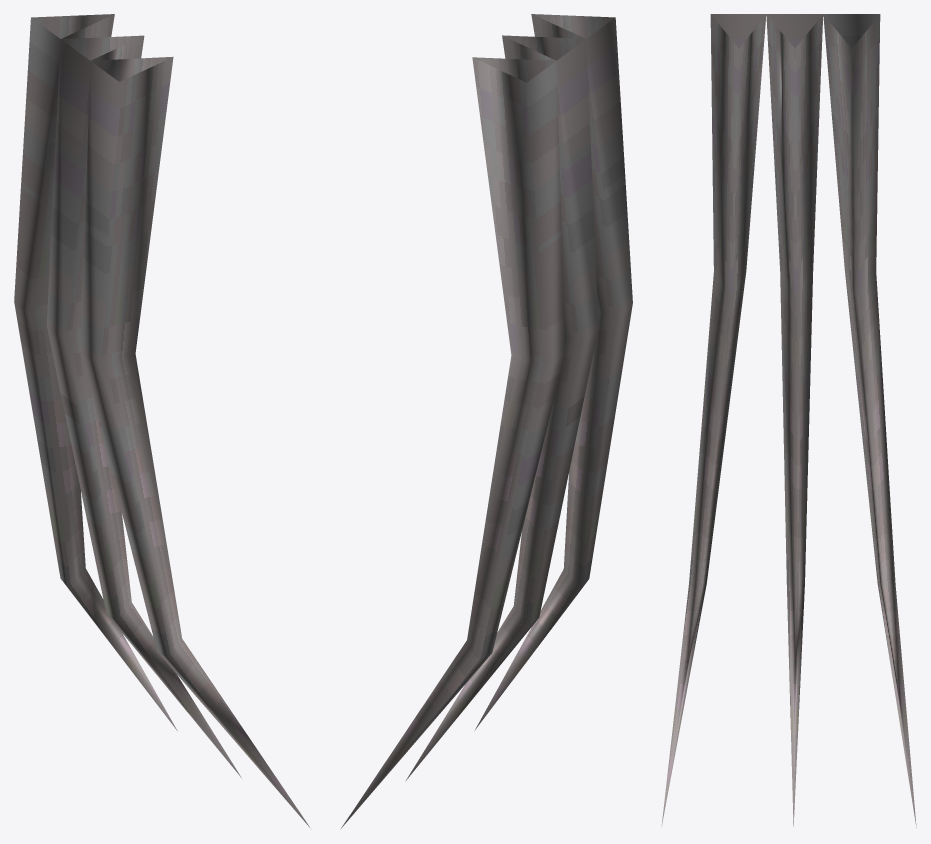
Rendered from Claw.fbx.
3 views of the same model, side by side, from view 1: azimuth 30°, elevation 25°; view 2: azimuth 150°, elevation 25°; view 3: azimuth 270°, elevation 25° (orthographic). The views are drawn at different scales.
Parts seen in each view (by area): view 1: U3DMesh; view 2: U3DMesh; view 3: U3DMesh.
Boxes of the visible parts, x1,y1,x2,y2 form: U3DMesh: [14, 14, 311, 829]; U3DMesh: [341, 14, 632, 828]; U3DMesh: [661, 14, 916, 827].
Size of the model in its own units: 0.3643 by 1.44 by 0.4507.
